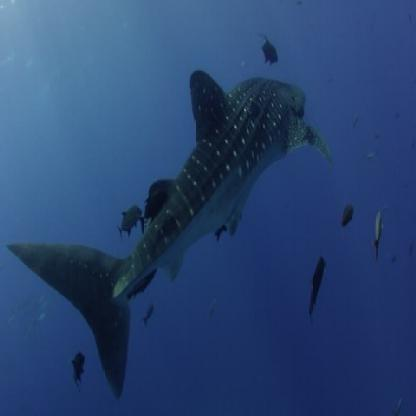shark: (6, 57, 331, 396)
